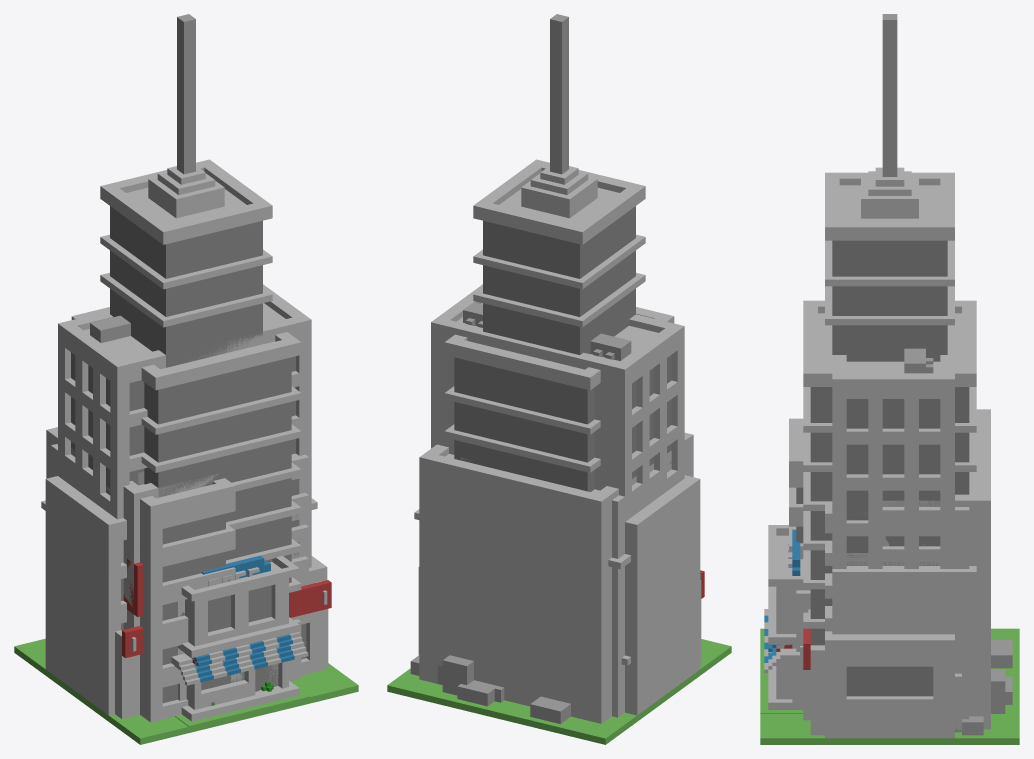
Rendered from VoxelBuildings.glb.
3 renders of one model, left to right at view 1: azimuth 30°, elevation 25°; view 2: azimuth 150°, elevation 25°; view 3: azimuth 270°, elevation 25°, orthographic. The views are drawn at different scales.
Parts seen in each view (by area): view 1: 06_Skyscraper_Tower, 01_Apartment_Modern, 07_Commercial_HighRise, 02_Apartment_Corner, 08_Mini_Market, 11_Cinema_Neon, 09_Coffee_Shop, 03_Apartment_Windows, 05_Office_MidRise, 10_Cafe_Striped, 04_Apartment_Balcony; view 2: 06_Skyscraper_Tower, 03_Apartment_Windows, 02_Apartment_Corner, 07_Commercial_HighRise, 01_Apartment_Modern, 05_Office_MidRise, 04_Apartment_Balcony, 11_Cinema_Neon; view 3: 06_Skyscraper_Tower, 07_Commercial_HighRise, 01_Apartment_Modern, 11_Cinema_Neon, 02_Apartment_Corner, 03_Apartment_Windows, 04_Apartment_Balcony, 05_Office_MidRise, 08_Mini_Market, 09_Coffee_Shop.
Part boxes in pixels (<box>): 06_Skyscraper_Tower: <box>71,14,301,681</box>; 01_Apartment_Modern: <box>14,476,358,744</box>; 07_Commercial_HighRise: <box>17,284,355,736</box>; 02_Apartment_Corner: <box>15,478,358,743</box>; 08_Mini_Market: <box>175,555,310,732</box>; 11_Cinema_Neon: <box>41,498,331,718</box>; 09_Coffee_Shop: <box>171,555,308,725</box>; 03_Apartment_Windows: <box>46,427,218,715</box>; 05_Office_MidRise: <box>50,445,308,583</box>; 10_Cafe_Striped: <box>178,634,308,718</box>; 04_Apartment_Balcony: <box>51,444,100,499</box>; 06_Skyscraper_Tower: <box>444,14,674,491</box>; 03_Apartment_Windows: <box>410,436,688,723</box>; 02_Apartment_Corner: <box>387,432,731,744</box>; 07_Commercial_HighRise: <box>390,284,726,737</box>; 01_Apartment_Modern: <box>387,475,731,744</box>; 05_Office_MidRise: <box>388,463,727,738</box>; 04_Apartment_Balcony: <box>437,466,666,717</box>; 11_Cinema_Neon: <box>414,509,704,716</box>; 06_Skyscraper_Tower: <box>803,14,976,720</box>; 07_Commercial_HighRise: <box>760,325,1019,738</box>; 01_Apartment_Modern: <box>760,628,1019,744</box>; 11_Cinema_Neon: <box>800,566,976,735</box>; 02_Apartment_Corner: <box>760,418,1019,744</box>; 03_Apartment_Windows: <box>882,409,990,735</box>; 04_Apartment_Balcony: <box>868,507,969,731</box>; 05_Office_MidRise: <box>761,501,1019,738</box>; 08_Mini_Market: <box>760,525,810,713</box>; 09_Coffee_Shop: <box>760,529,810,712</box>.
Bounding box in the file's own units: 12.15 × 34.76 × 12.15.
